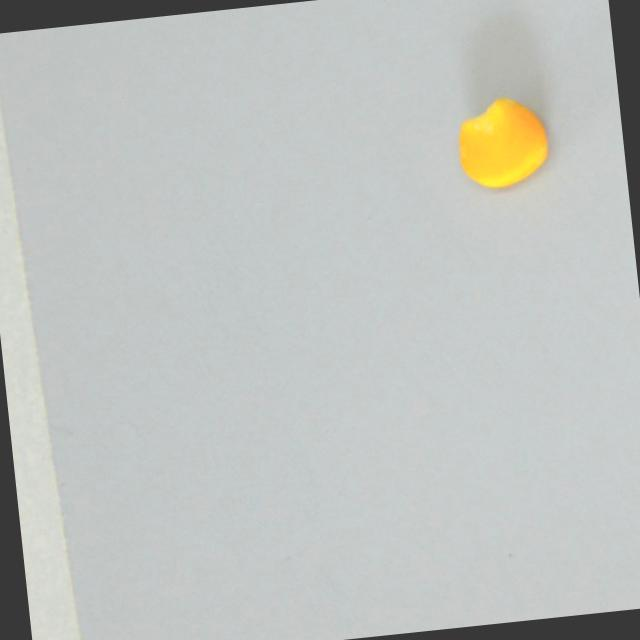no_canjicado: (450, 81, 560, 202)
